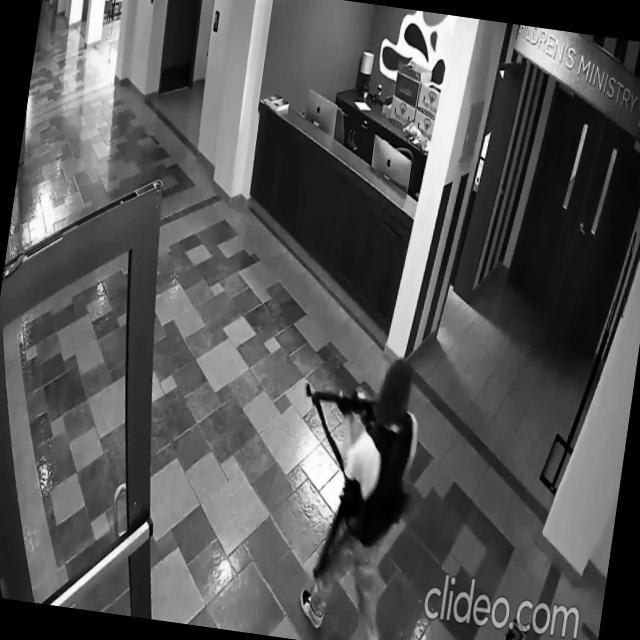gun: (312, 460, 358, 582), (302, 381, 388, 418)
person with a gun: (272, 343, 430, 640)
